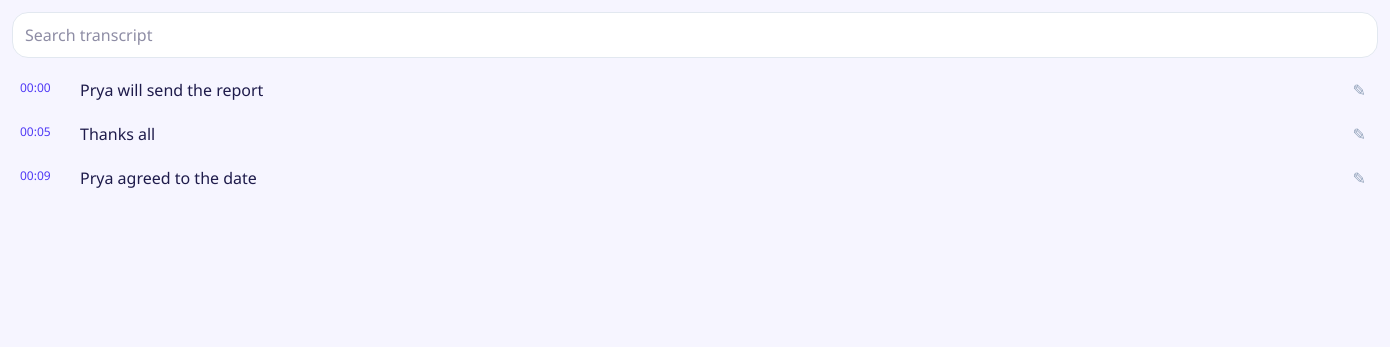
Test: editing a line › keeps the editor open with a message when saving fails
This screenshot has width=1390, height=347.
Click the 2nd button "✎": (1359, 134) [1341,114,1378,154]
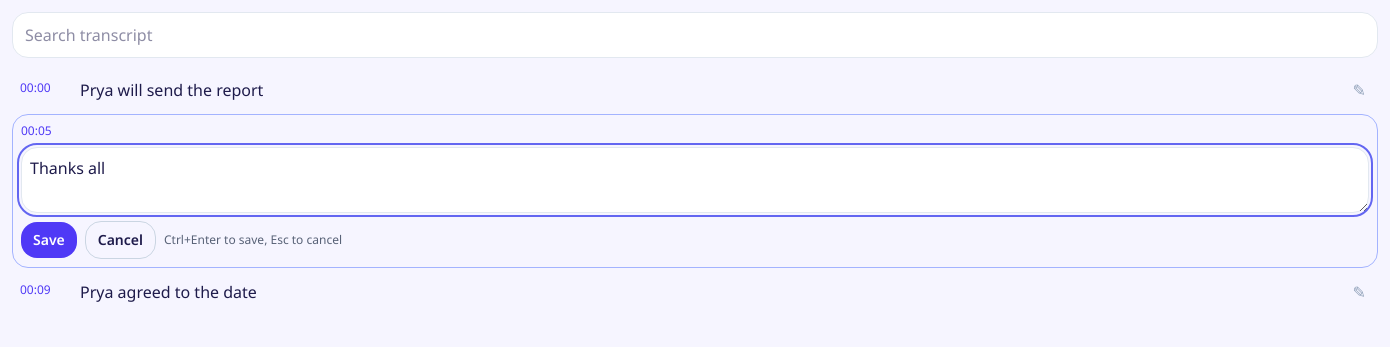
In the text box named "Edit line": (695, 180) [21,147,1369,213], type "!"
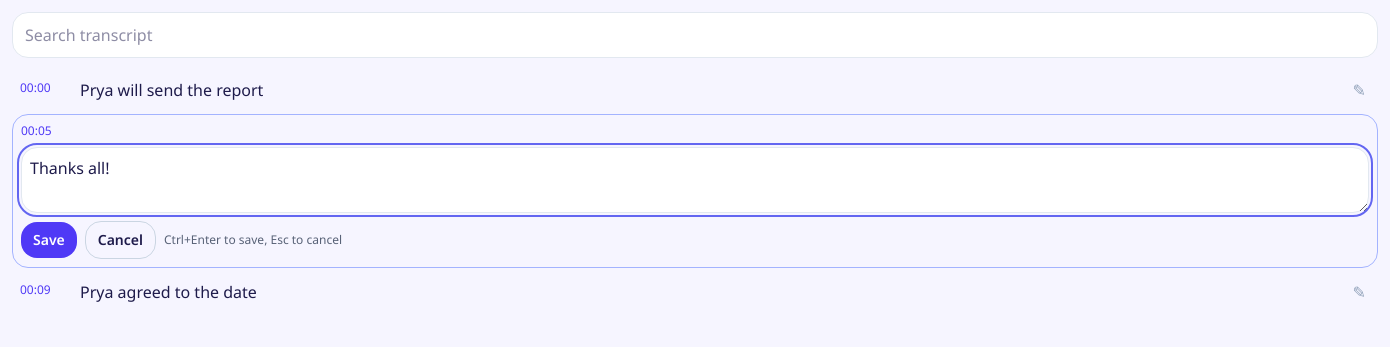
Click the button "Save": (49, 240) [21,222,77,258]
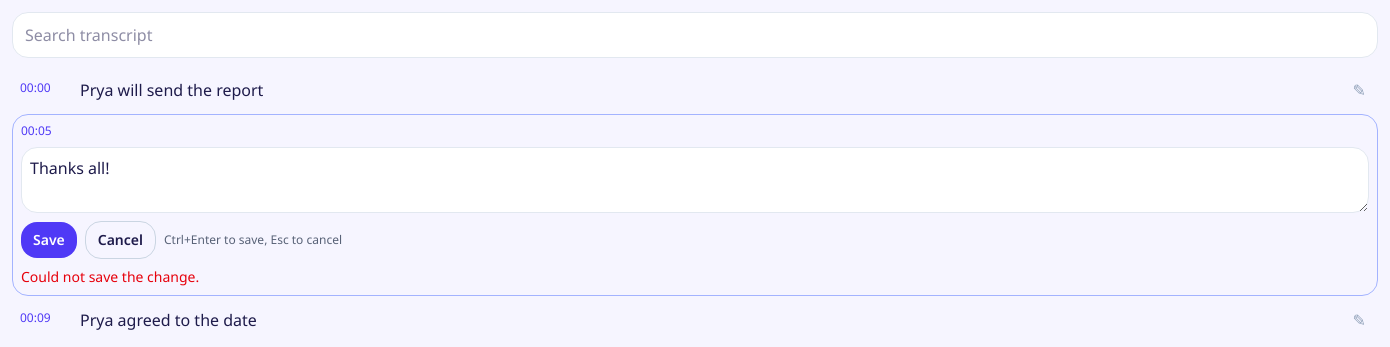
Expected: the text box named "Edit line" is shown, [21,147,1369,213]
Expected: the message reads "Could not save the change.", [21,267,199,286]
